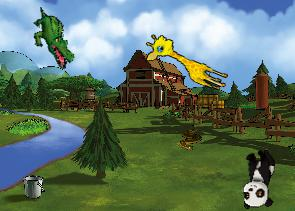crocodile: (19, 5, 87, 71)
giraffe: (140, 30, 234, 93)
panda: (241, 148, 275, 209)
